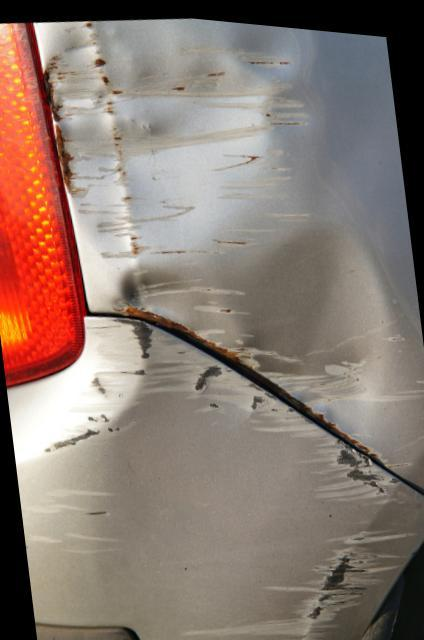dent: (35, 15, 403, 438)
scratch: (18, 315, 424, 640)
